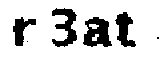3: (48, 2, 80, 50)
a: (83, 14, 112, 48)
r: (8, 16, 37, 49)
t: (114, 9, 141, 49)
